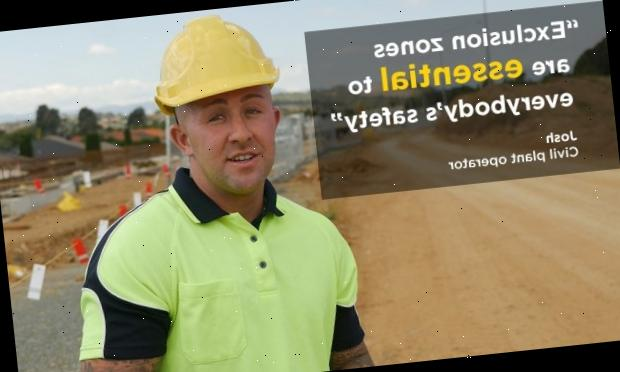helmet: (144, 11, 284, 112)
no_wear: (66, 192, 365, 372)
